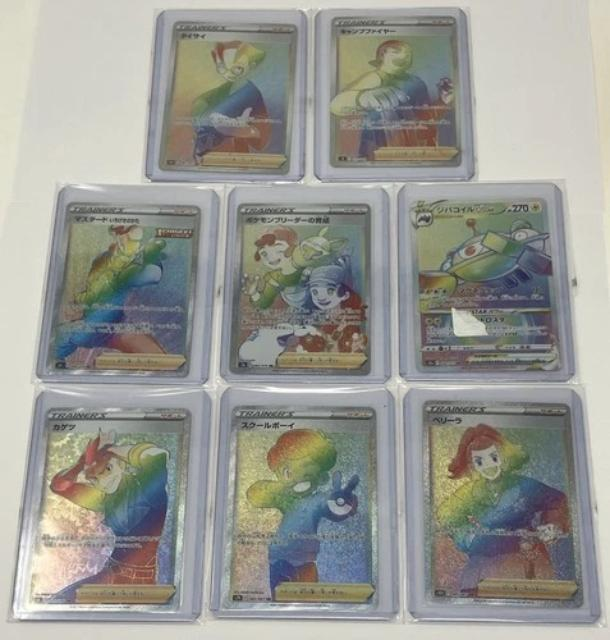Card: (21, 405, 194, 617), (420, 398, 587, 610), (219, 403, 381, 613), (42, 199, 204, 379), (408, 194, 567, 375), (226, 200, 375, 377), (157, 18, 301, 177), (327, 13, 465, 170)
Name: (241, 213, 334, 227), (70, 213, 145, 228), (434, 202, 500, 217), (334, 24, 402, 37), (238, 418, 300, 432), (429, 412, 468, 428), (47, 420, 84, 434), (177, 29, 211, 42)
